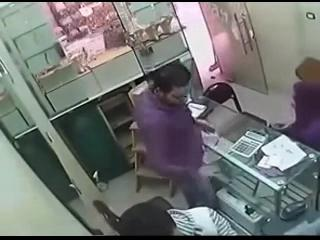Normal: (132, 63, 218, 208), (92, 196, 180, 236), (202, 82, 243, 113), (229, 128, 268, 158), (280, 200, 308, 220)
